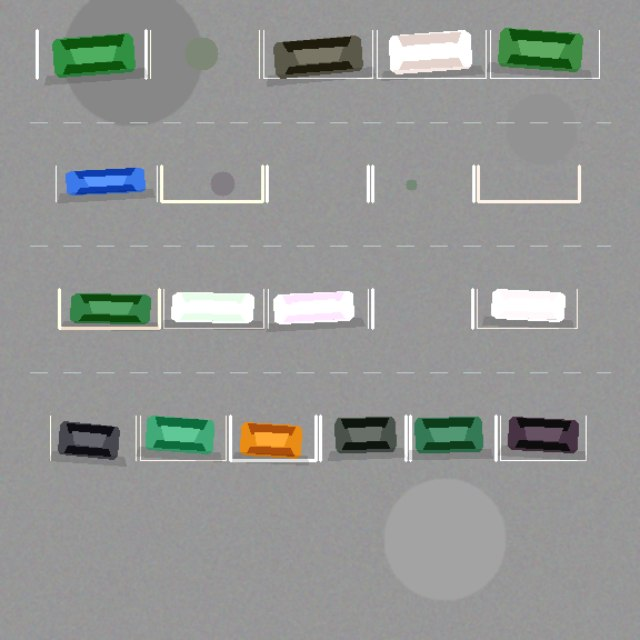space-empty: (150, 30, 259, 78), (372, 289, 472, 328), (161, 166, 262, 201), (267, 166, 368, 201), (372, 166, 473, 201), (478, 166, 579, 201)
space-occupied: (37, 30, 146, 78), (263, 30, 372, 78), (377, 30, 486, 78), (490, 30, 599, 78), (59, 289, 159, 328), (163, 289, 263, 328), (268, 289, 368, 328), (477, 289, 577, 328), (50, 416, 136, 460), (140, 416, 226, 460), (230, 416, 316, 460), (320, 416, 406, 460), (410, 416, 496, 460), (500, 416, 586, 460), (56, 166, 157, 201)
